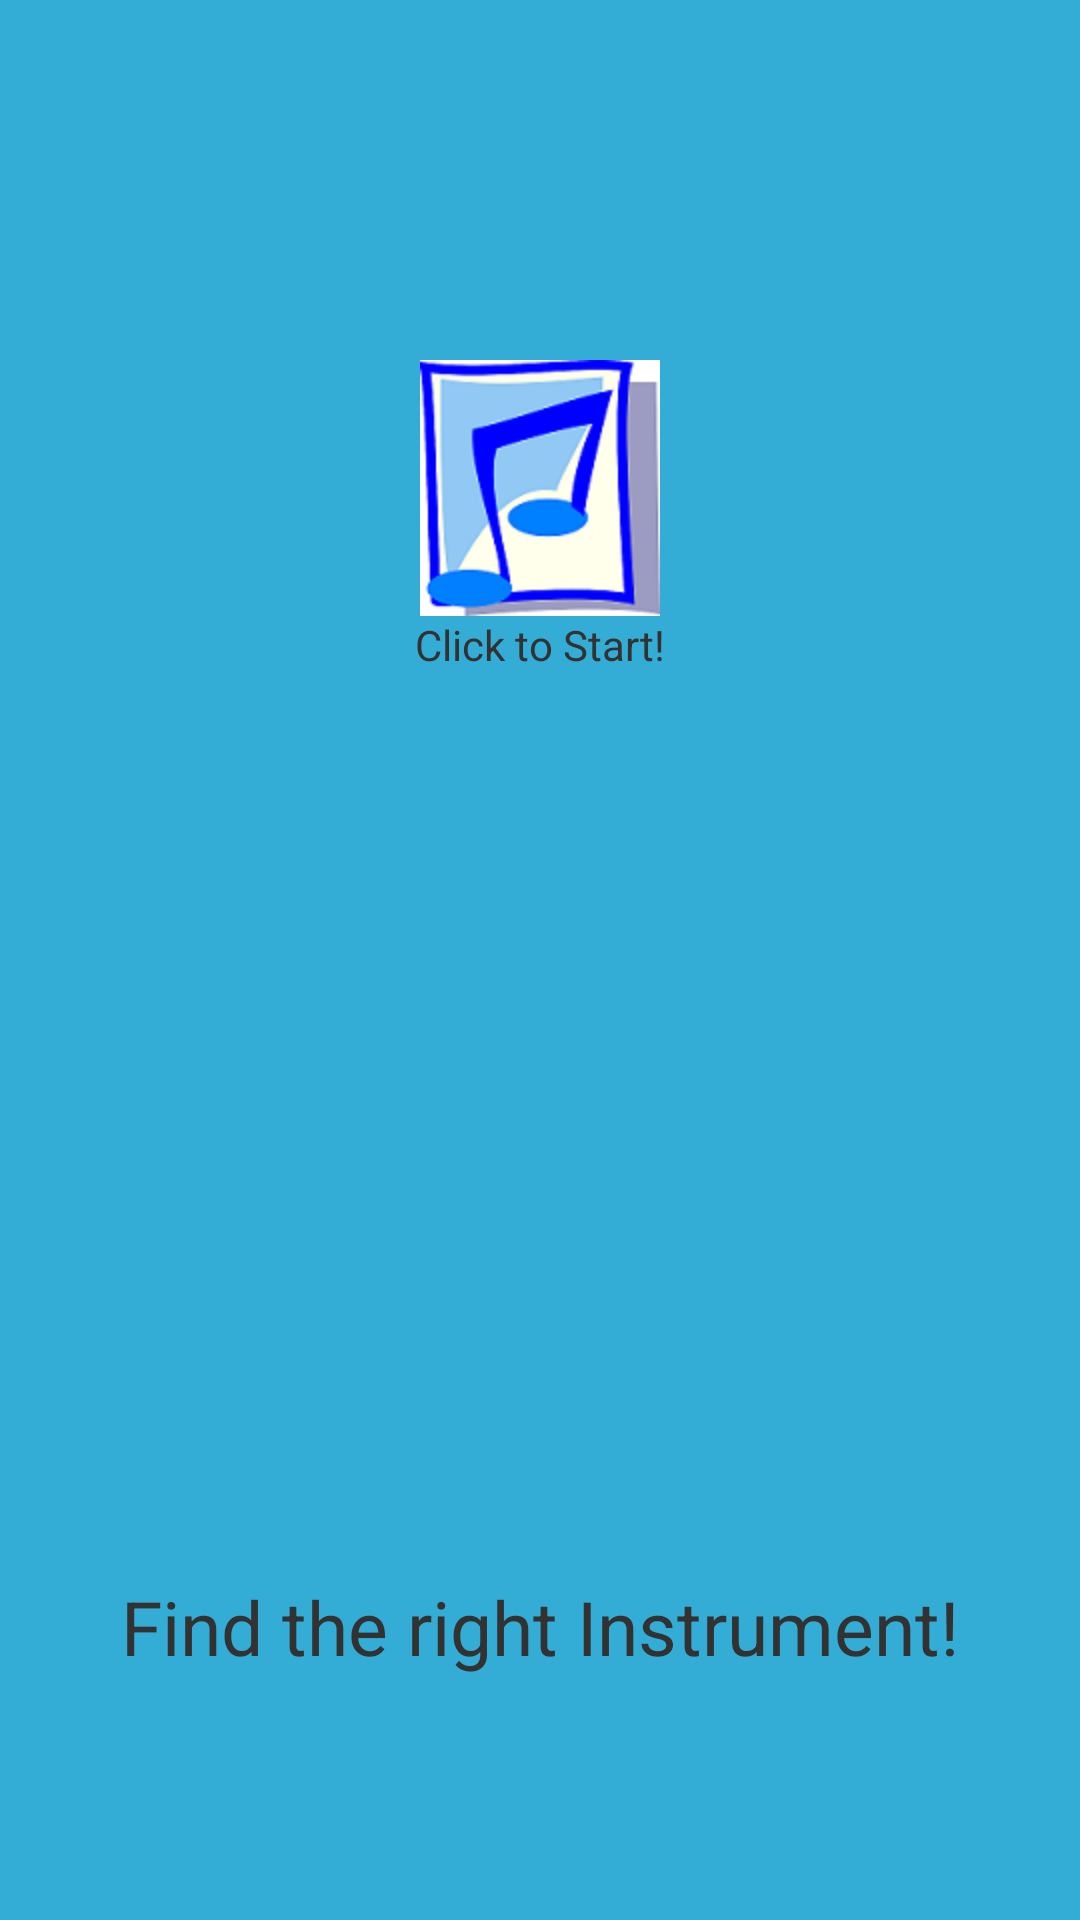

Locate icon controls on the screen. Image size 1080px x 1920px, boxes as (x1, y1, x2, y2).
music: (420, 360, 660, 616)
